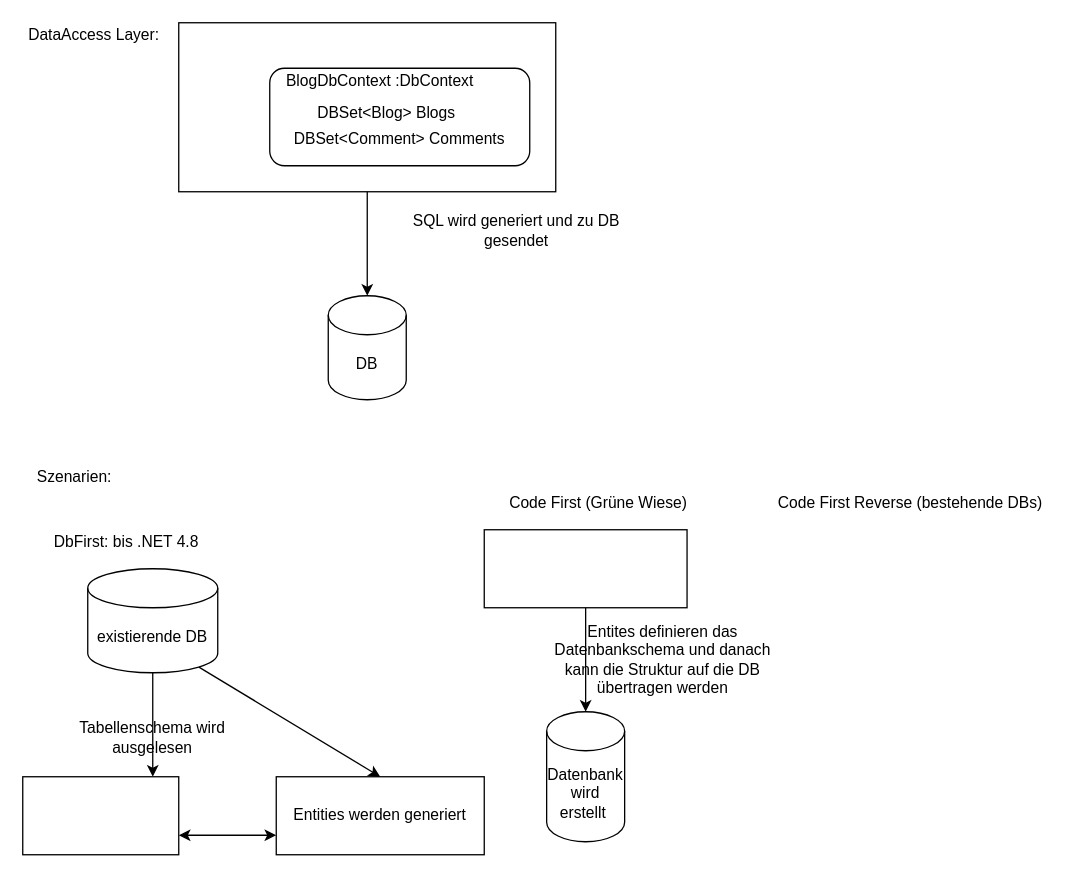
Some shapes in this 1067 by 877 pixel diagram are drawn without their labels. The shapes that lost their labels are listed below. From the top down, each one's centre as x and y in pixels, then its label:
At point 585,568: "Definieren von Entites +abgeleitedete DbContext-Klasse".
At point 100,815: "Mapping Datei (*.edmx)".
